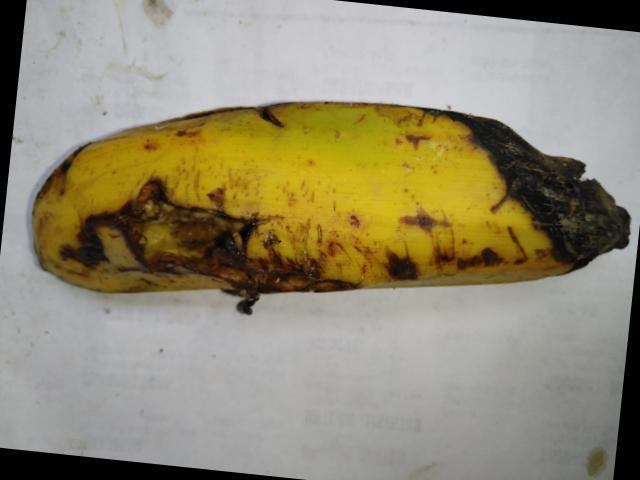ripe: (15, 96, 478, 323)
rotten: (39, 176, 357, 339), (428, 65, 639, 304)
